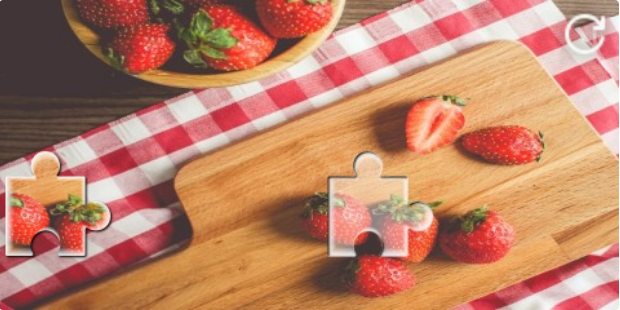target: (328, 151, 433, 257)
